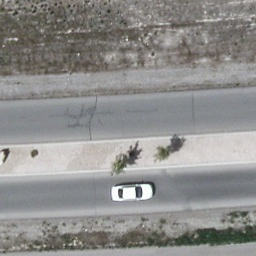car: (110, 183, 155, 203)
